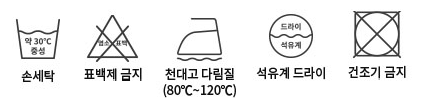KR_dry_clean_petroleum: (266, 11, 316, 59)
KR_hand_wash_30_neutral: (14, 12, 65, 63)
KR_no_chlorine_bleach: (84, 12, 142, 65)
KR_no_tumble_dry: (348, 6, 407, 62)
